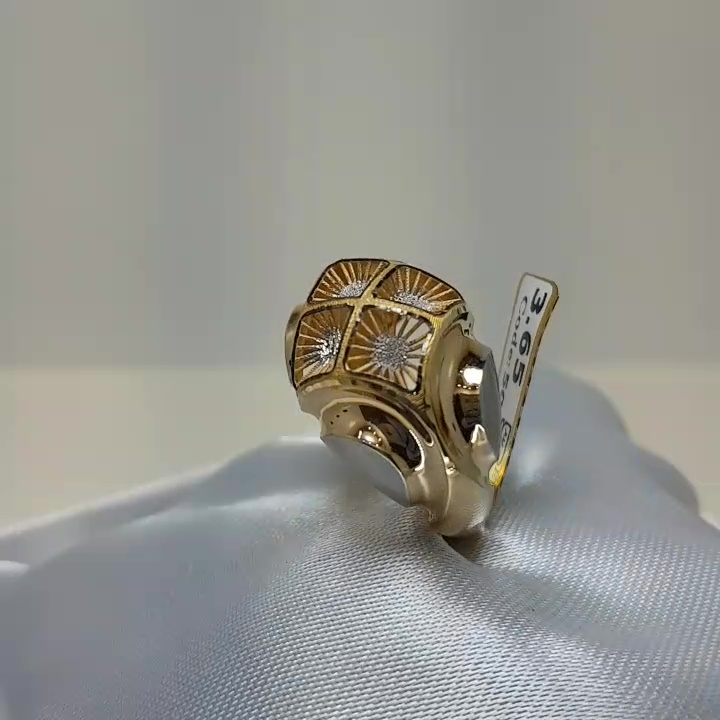Ring 2: (268, 216, 536, 564)
